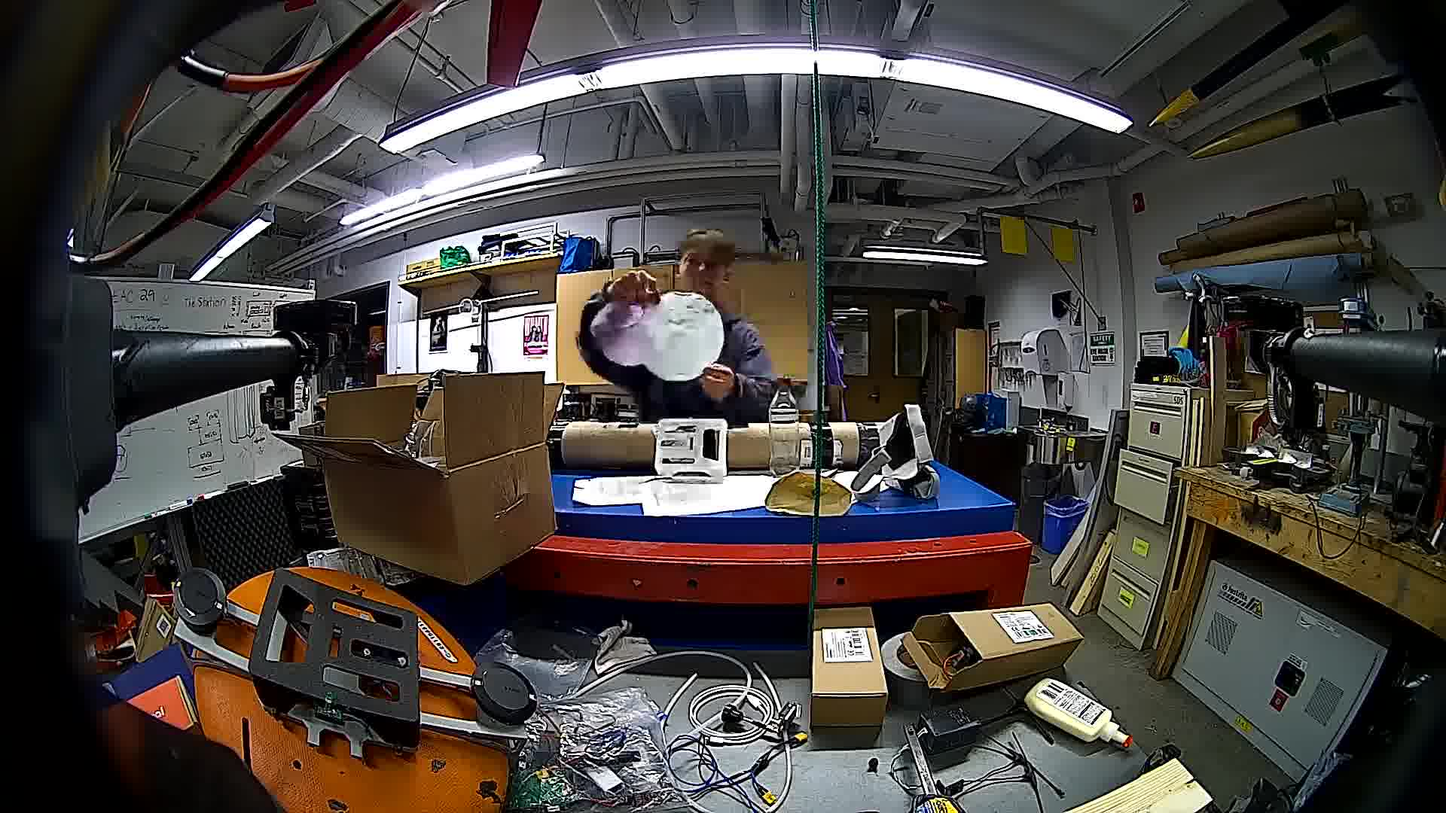Target: (642, 289, 724, 379)
